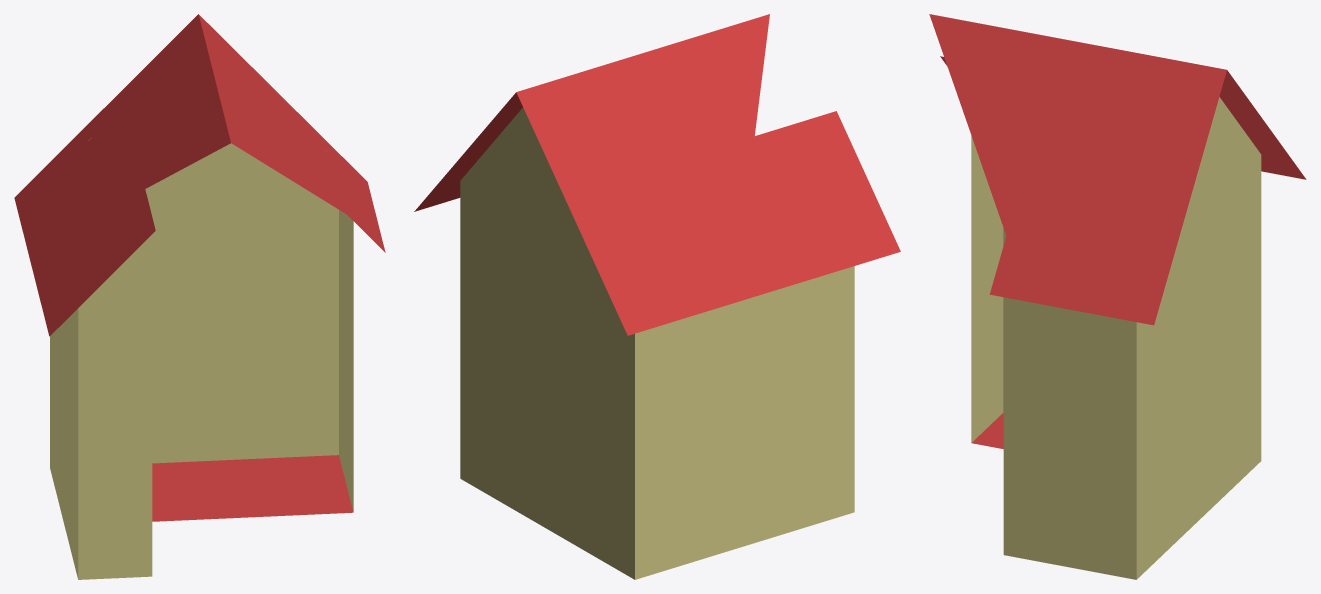
3 views of the same model, side by side, from view 1: azimuth 30°, elevation 25°; view 2: azimuth 150°, elevation 25°; view 3: azimuth 270°, elevation 25° (orthographic). The views are drawn at different scales.
Bounding box in the file's own units: 10.62 × 8.24 × 11.07.
